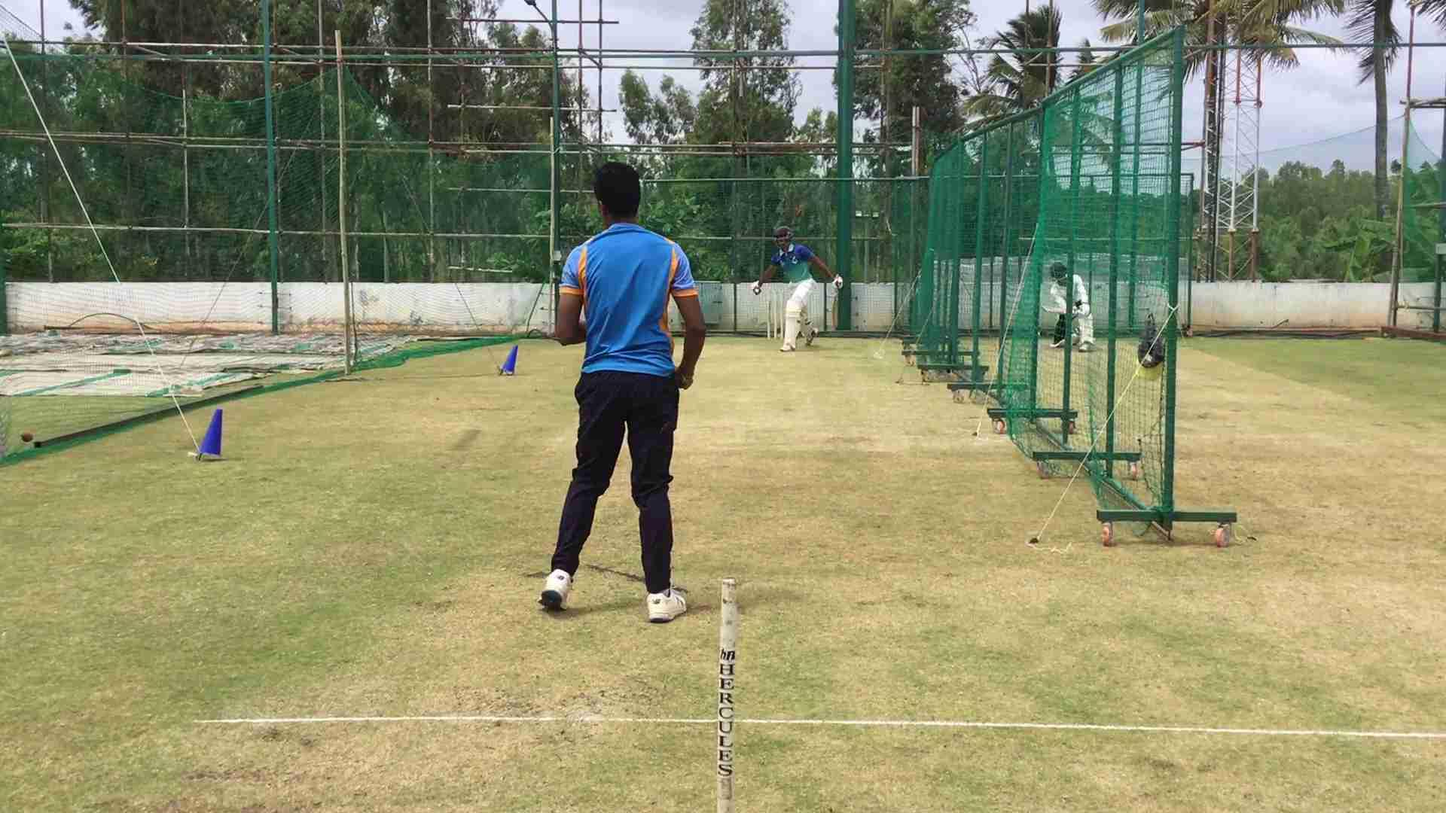batsman: (752, 220, 846, 358)
